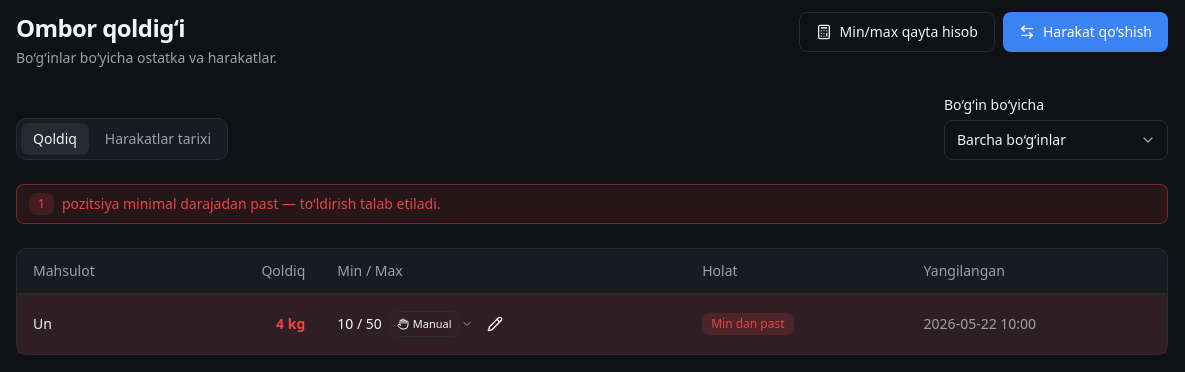
Test: list screen response contracts › MovementHistory reads items[] from the {items,total,limit,offset} envelope
This screenshot has width=1185, height=372.
Click the tab "Harakatlar tarixi".
click(158, 139)  # box [93, 123, 223, 155]
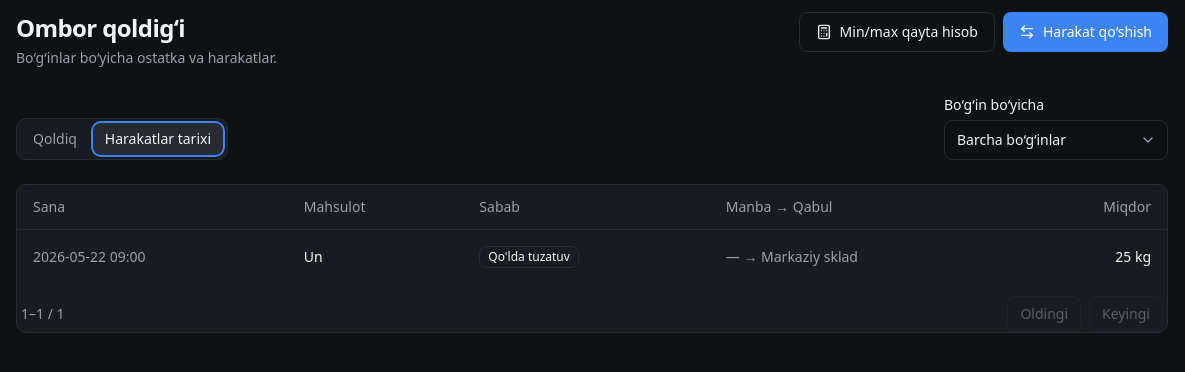
Now the cell "— → Markaziy sklad" is shown, box [710, 229, 1018, 284]
